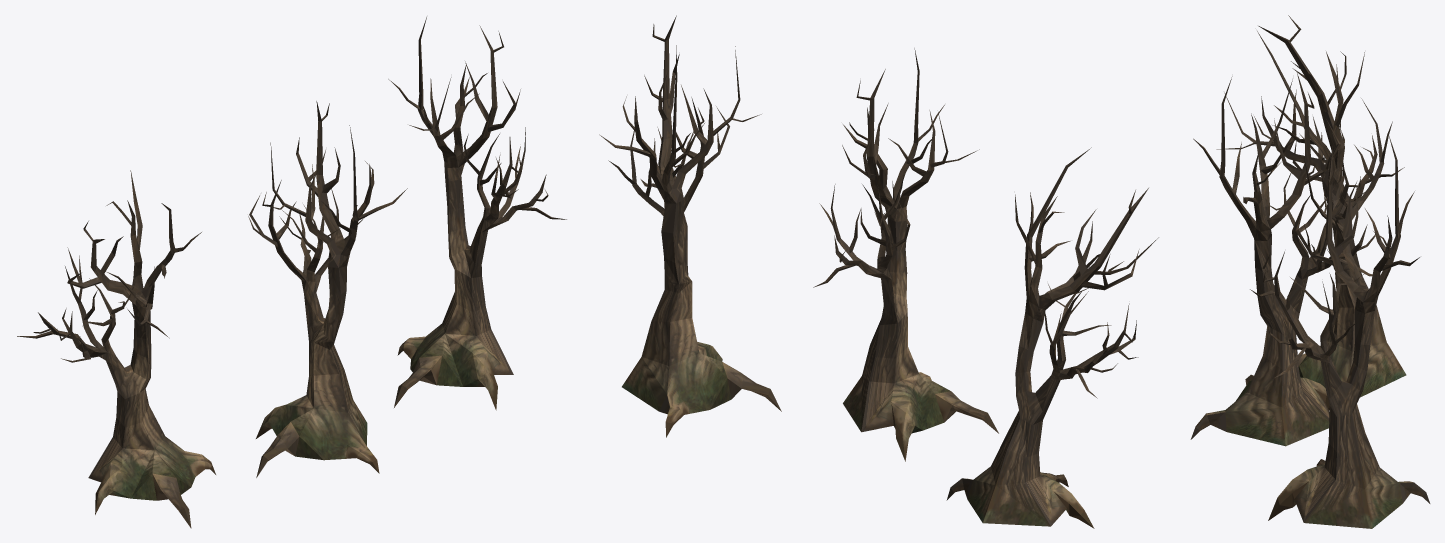
File: plants_tall_tree_trunks212.fbx
3 renders of one model, left to right at view 1: azimuth 30°, elevation 25°; view 2: azimuth 150°, elevation 25°; view 3: azimuth 270°, elevation 25°, orthographic. The views are drawn at different scales.
Visible parts, largest first — view 1: obj0.163; view 2: obj0.163; view 3: obj0.163.
Boxes of the visible parts, x1,y1,x2,y2 form: obj0.163: [17, 17, 566, 528]; obj0.163: [599, 15, 1158, 528]; obj0.163: [1190, 15, 1430, 528].
Size of the model in its own units: 13.96 by 10.69 by 5.53.
